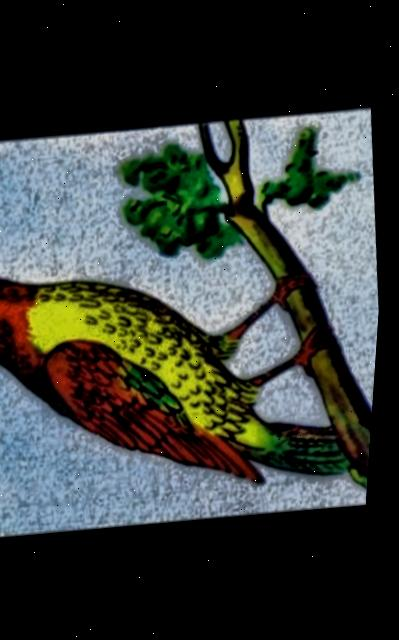El Pajaro: (0, 102, 394, 544)
